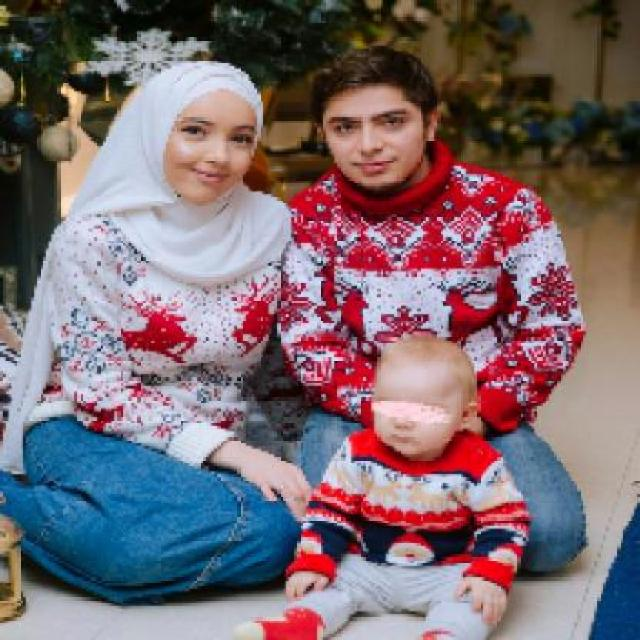child: (226, 332, 532, 638)
